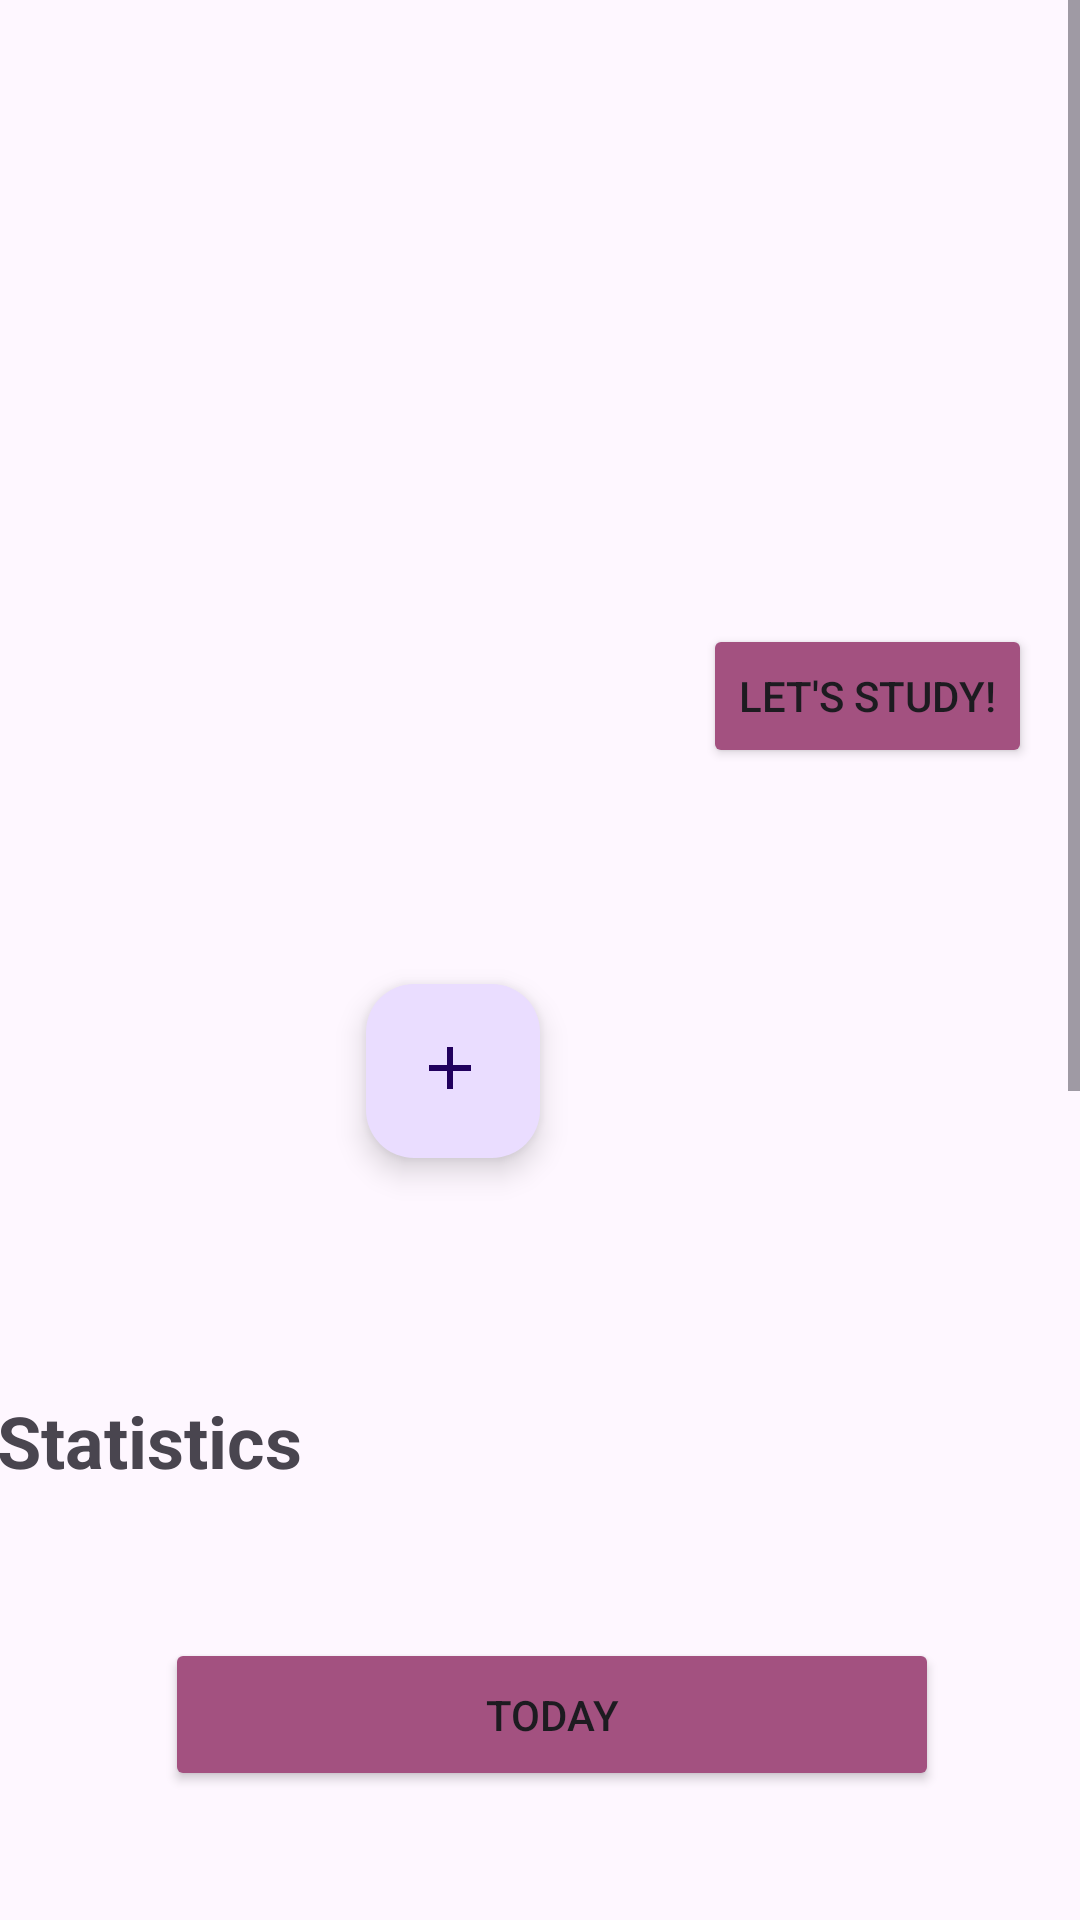

Icon click points for this 1080*1920 phone screenshot, format (x,y):
add: (453,1071)
